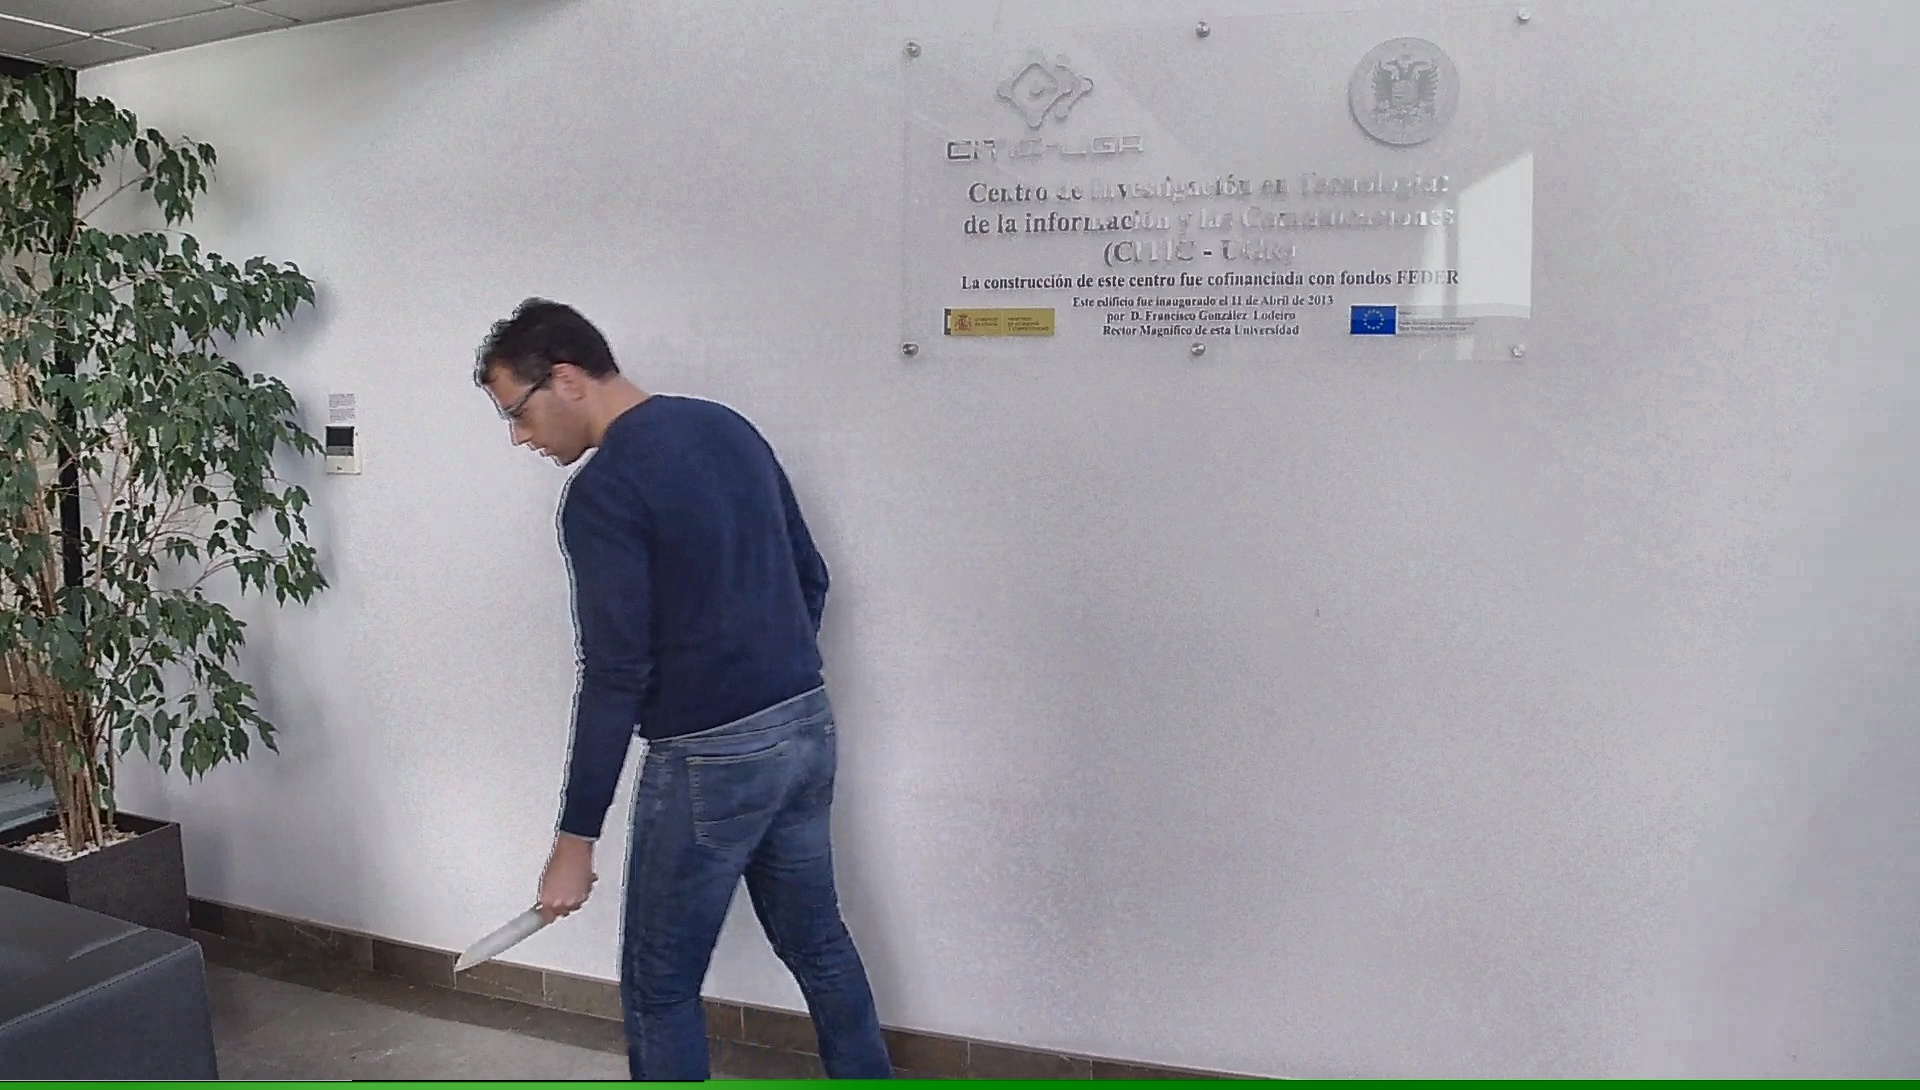knife: (444, 865, 608, 982)
